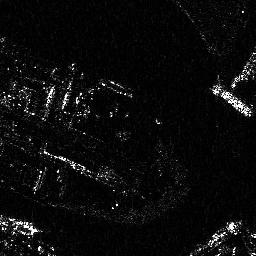ship: (189, 219, 243, 256), (209, 82, 255, 117)
